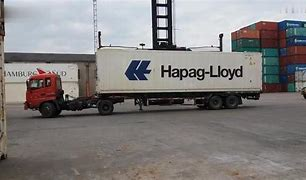bigtruck: (21, 45, 263, 114)
